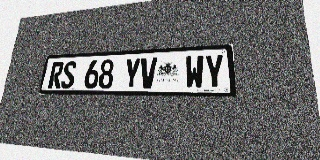6: (83, 60, 101, 89)
8: (98, 59, 115, 89)
R: (48, 62, 64, 89)
S: (60, 61, 77, 89)
V: (139, 57, 157, 89)
W: (185, 55, 204, 89)
Y: (204, 54, 225, 89), (123, 58, 141, 89)
